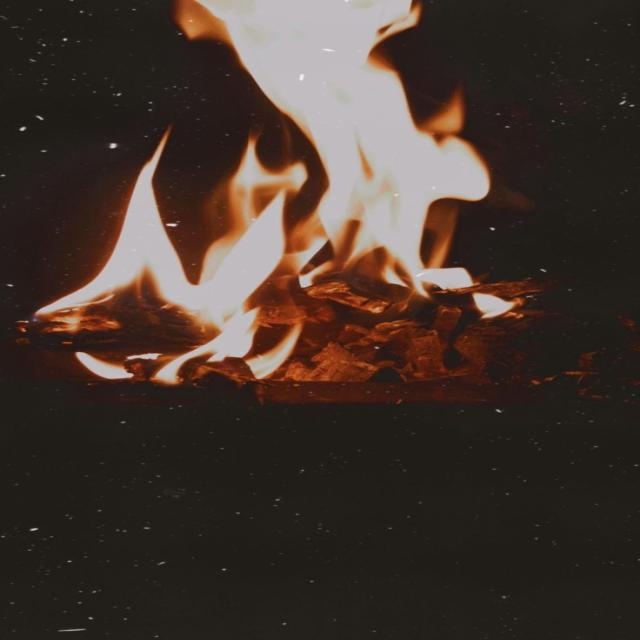Fire: (44, 3, 606, 410)
